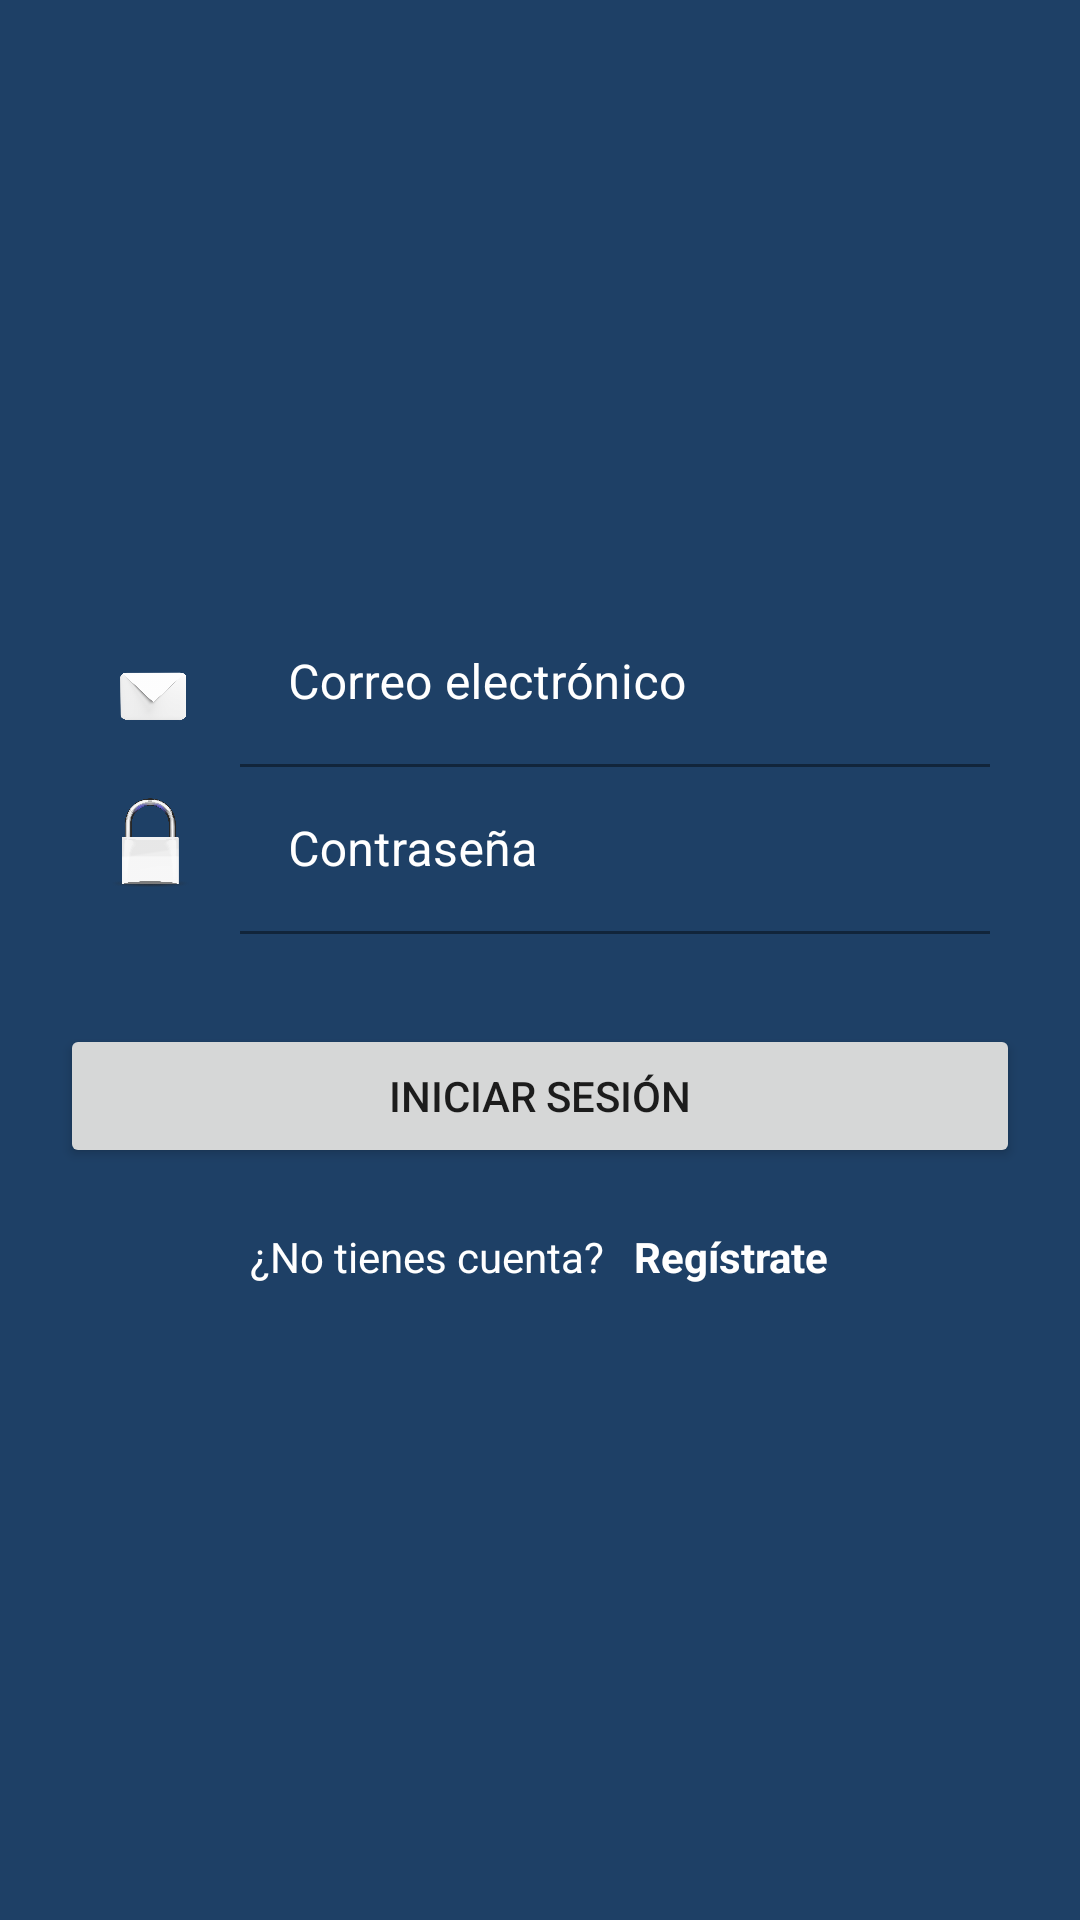

Icons on this 1080px×1920px Android screen, each with the point to tap as point (x, y):
correo: point (153, 696)
padlock: point (150, 842)
